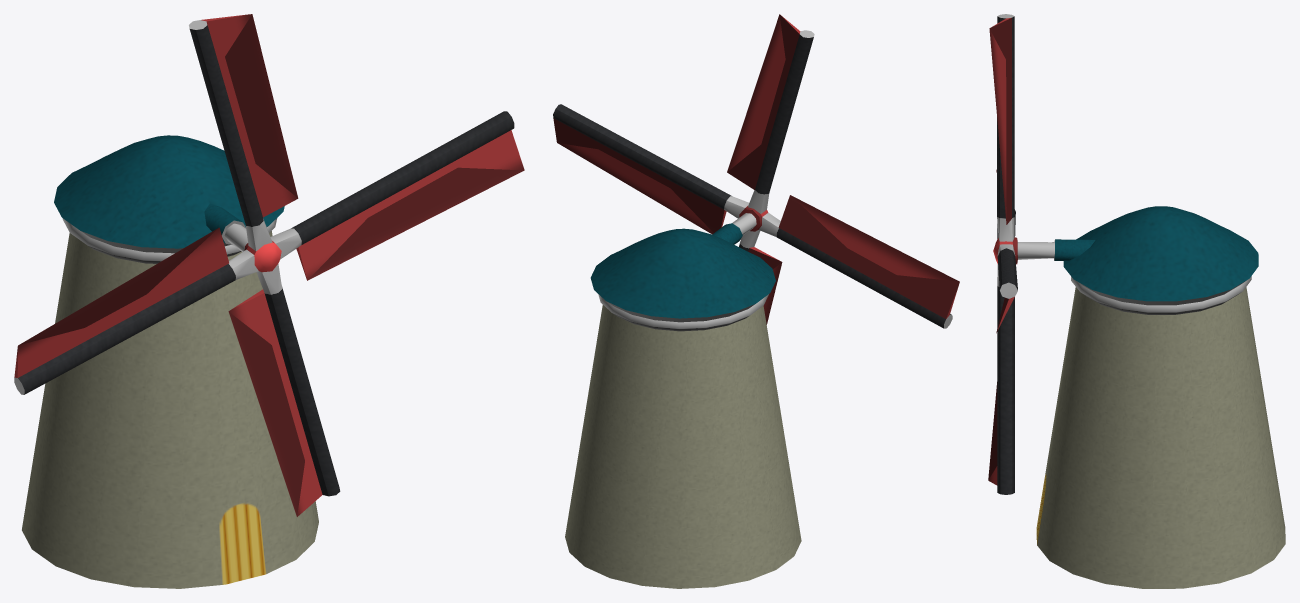
Rendered from windmill_2.fbx.
3 renders of one model, left to right at view 1: azimuth 30°, elevation 25°; view 2: azimuth 150°, elevation 25°; view 3: azimuth 270°, elevation 25°, orthographic. The views are drawn at different scales.
Parts seen in each view (by area): view 1: pCylinder73; view 2: pCylinder73; view 3: pCylinder73.
Boxes of the visible parts, x1,y1,x2,y2 form: pCylinder73: [14, 14, 524, 588]; pCylinder73: [553, 14, 959, 588]; pCylinder73: [988, 14, 1285, 588].
Size of the model in its own units: 118 by 132 by 71.09.
1 material, 1 textured.
